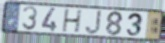3: (125, 12, 147, 38), (21, 5, 39, 32)
4: (41, 7, 59, 33)
8: (105, 11, 124, 37)
H: (61, 8, 84, 34)
J: (84, 9, 103, 35)
